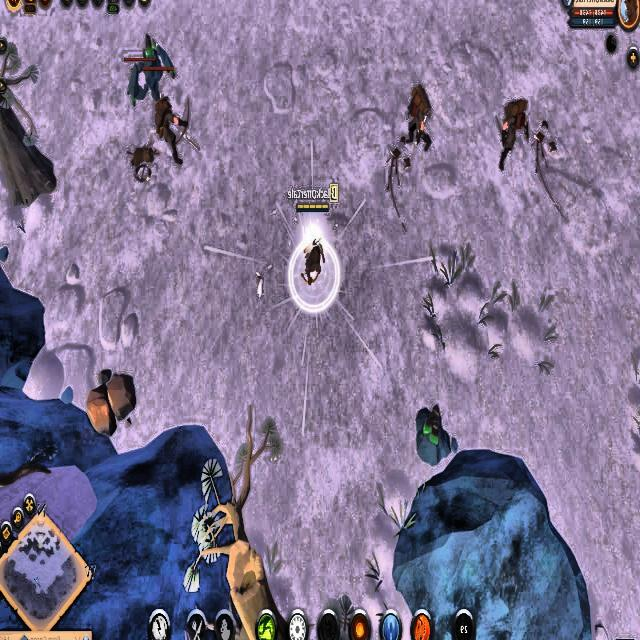limestone: (86, 365, 139, 438)
tinore: (410, 404, 454, 470)
